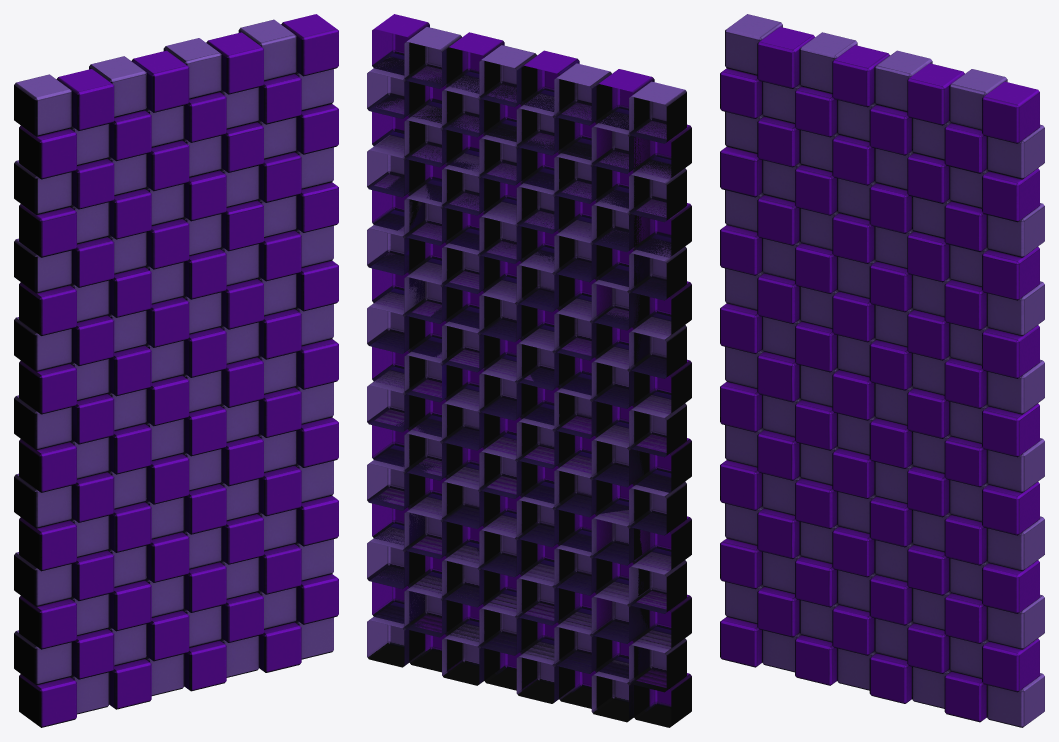
File: Background.fbx
3 views of the same model, side by side, from view 1: azimuth 30°, elevation 25°; view 2: azimuth 150°, elevation 25°; view 3: azimuth 330°, elevation 25° (orthographic).
Visible parts, largest first — view 1: Background; view 2: Background; view 3: Background.
Boxes of the visible parts, box(x1,y1,x2,y2) form: Background: box(14, 14, 338, 727); Background: box(367, 14, 691, 727); Background: box(720, 14, 1044, 727).
Size of the model in its own units: 8 by 16 by 1.23.
1 material, 1 textured.
